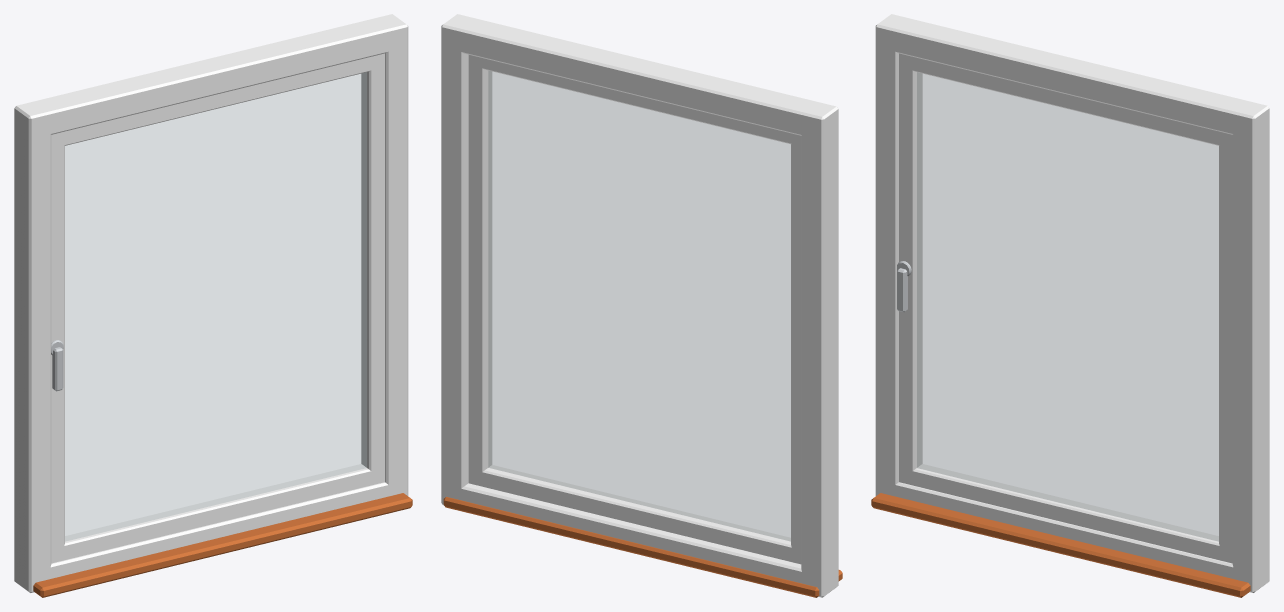
The model's file is window-escape-1000x1200.glb.
3 renders of one model, left to right at view 1: azimuth 30°, elevation 25°; view 2: azimuth 150°, elevation 25°; view 3: azimuth 330°, elevation 25°, orthographic.
Visible parts, largest first — view 1: window-escape-1000x1200.glass, window-escape-1000x1200.tint, window-escape-1000x1200.accent, window-escape-1000x1200.chrome; view 2: window-escape-1000x1200.glass, window-escape-1000x1200.tint, window-escape-1000x1200.accent; view 3: window-escape-1000x1200.glass, window-escape-1000x1200.tint, window-escape-1000x1200.accent, window-escape-1000x1200.chrome.
Part boxes in pixels (box(x1,y1,x2,y2)): window-escape-1000x1200.glass: box(65, 72, 366, 541); window-escape-1000x1200.tint: box(14, 14, 408, 592); window-escape-1000x1200.accent: box(33, 493, 412, 597); window-escape-1000x1200.chrome: box(51, 340, 63, 391); window-escape-1000x1200.glass: box(488, 71, 790, 541); window-escape-1000x1200.tint: box(441, 14, 838, 597); window-escape-1000x1200.accent: box(443, 497, 842, 597); window-escape-1000x1200.glass: box(917, 72, 1218, 541); window-escape-1000x1200.tint: box(875, 14, 1269, 592); window-escape-1000x1200.accent: box(871, 493, 1250, 597); window-escape-1000x1200.chrome: box(897, 261, 911, 312).
Bounding box in the file's own units: 1 × 1.2 × 0.12.
